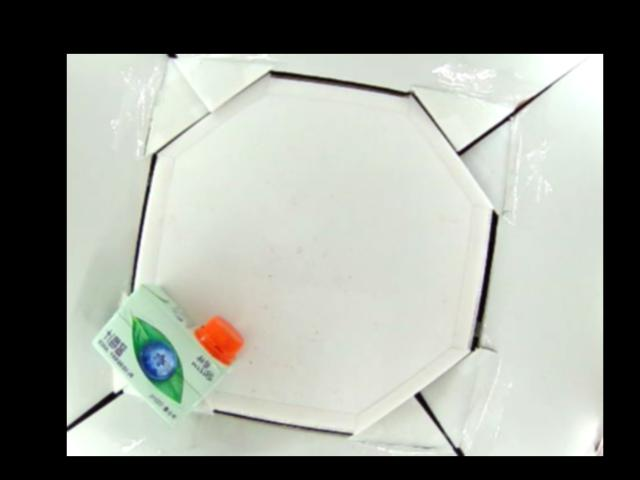Bottle: (94, 283, 239, 414)
